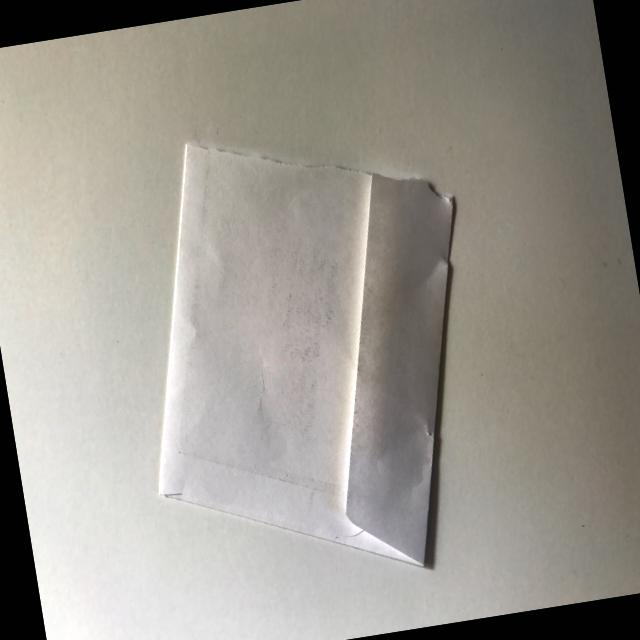Paper: (92, 90, 521, 636)
